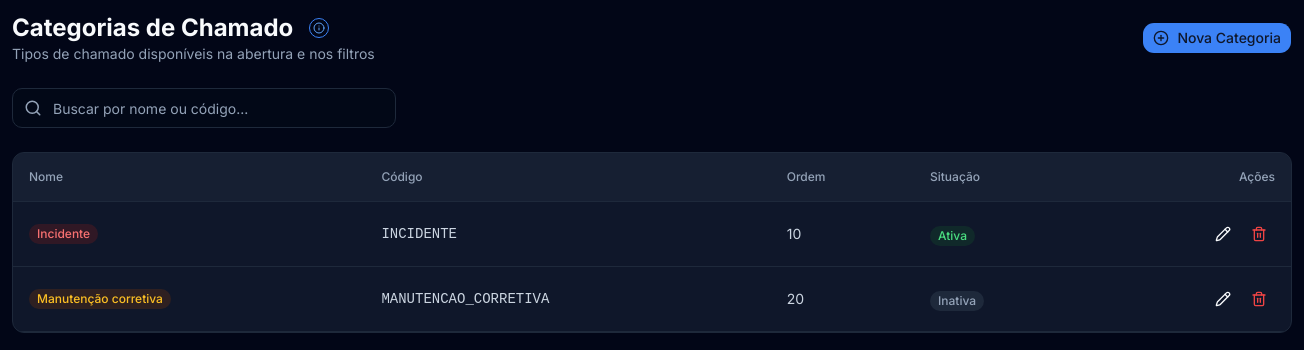
Test: ChamadosCategoriasPage › filtra pela busca por nome ou código
Expected: the text "Incidente" is shown, [29,224,98,244]
In the field with placeholder "Buscar por nome ou código...": (204, 108) [12,88,396,128], type "corretiva"
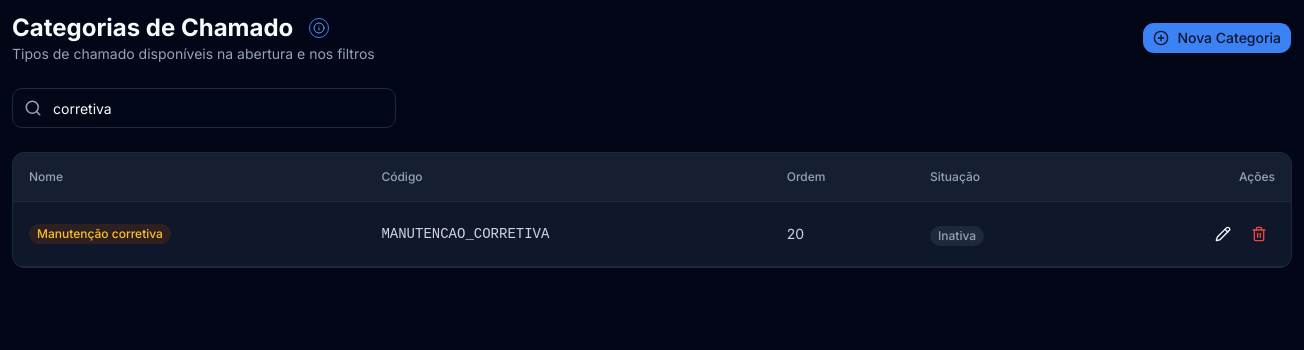
Expected: the text "Manutenção corretiva" is shown, [29,224,171,244]
Now the link "Incidente" is gone
Replace the text in the field with placeholder "Buscar por nome ou código..." with "zzz-inexistente": (204, 108) [12,88,396,128]
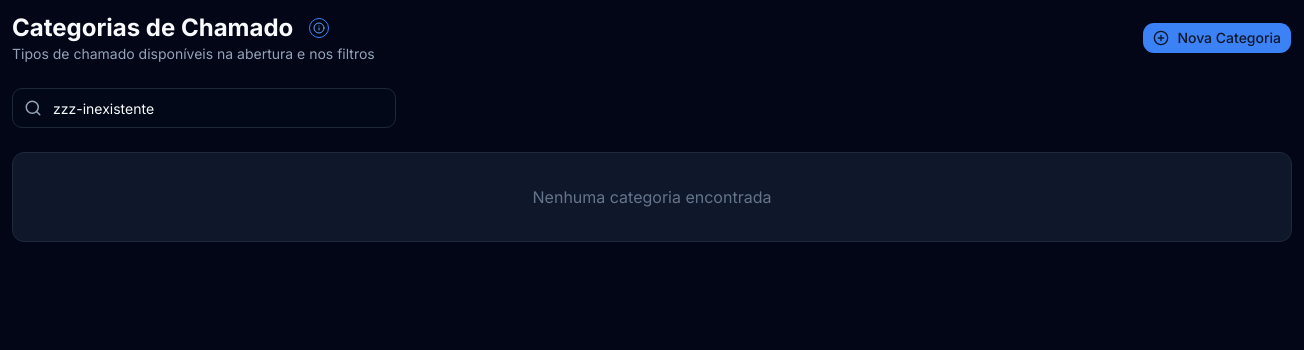
Now the text "Nenhuma categoria encontrada" is shown, box [532,187,771,207]
